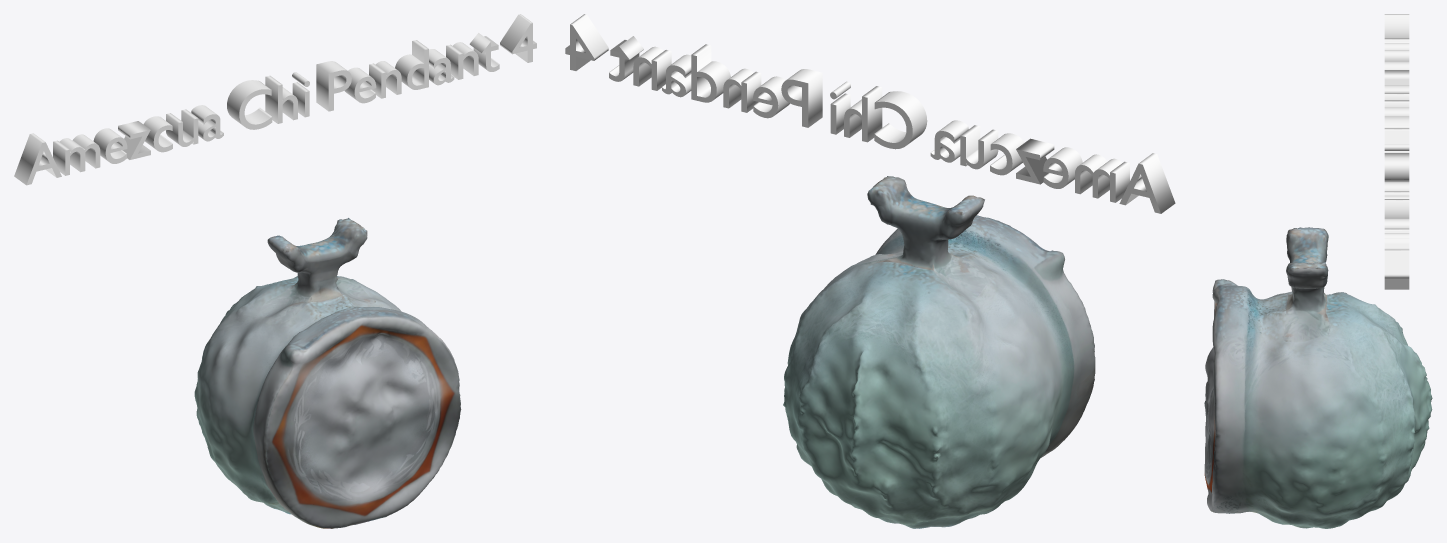
3 renders of one model, left to right at view 1: azimuth 30°, elevation 25°; view 2: azimuth 150°, elevation 25°; view 3: azimuth 270°, elevation 25°, orthographic. The views are drawn at different scales.
Parts seen in each view (by area): view 1: Mesh_0, wellness1; view 2: Mesh_0, wellness1; view 3: Mesh_0, wellness1.
Boxes of the visible parts, left/top/right/bottom form: Mesh_0: left=194, top=218, right=461, bottom=528; wellness1: left=14, top=14, right=536, bottom=185; Mesh_0: left=783, top=176, right=1095, bottom=528; wellness1: left=565, top=14, right=1175, bottom=213; Mesh_0: left=1204, top=227, right=1432, bottom=528; wellness1: left=1384, top=14, right=1409, bottom=289.
Size of the model in its own units: 2.38 by 1.73 by 0.9292.
Materials: 2 (1 with a texture image).
